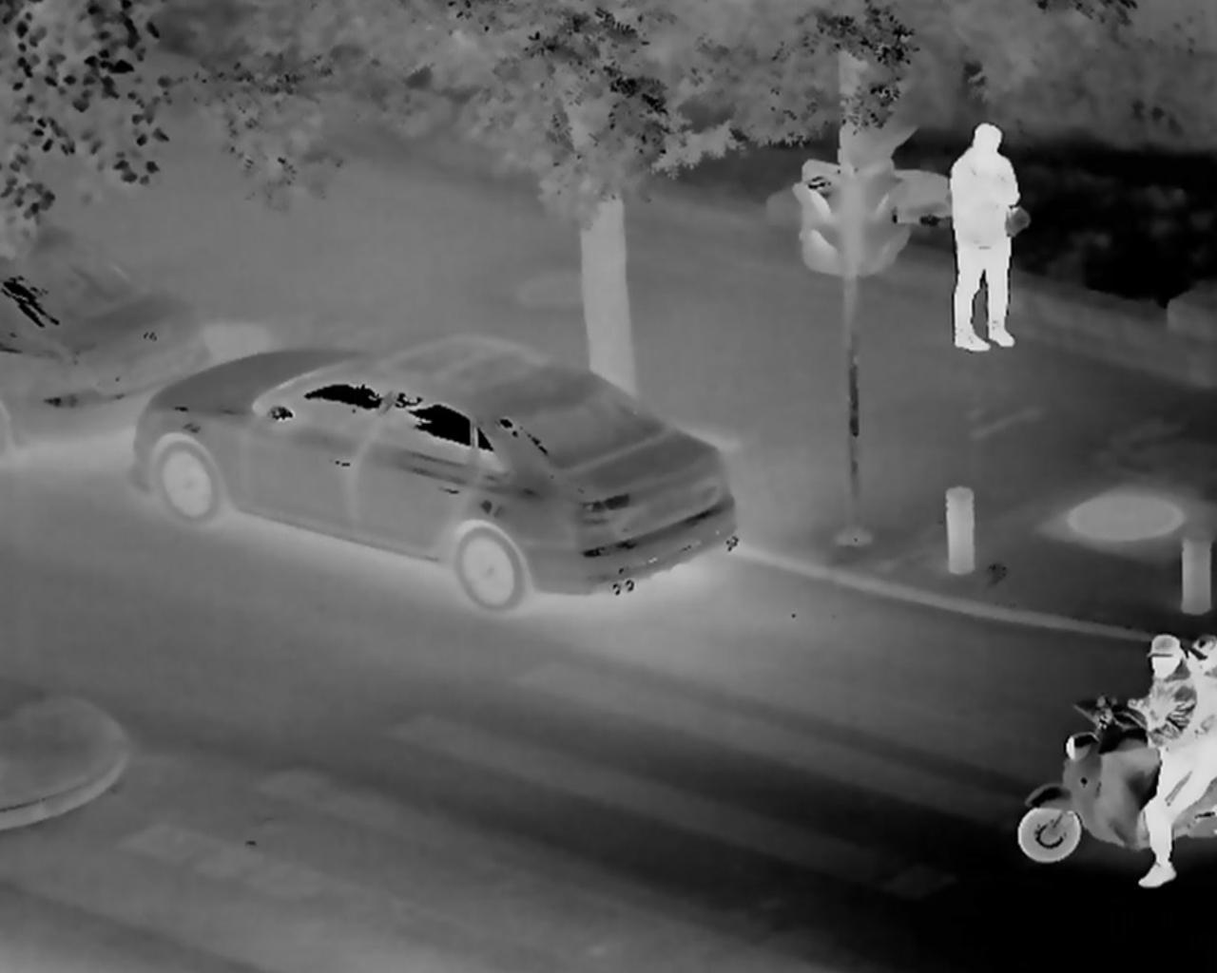person: (1139, 637, 1217, 889), (937, 116, 1017, 351)
